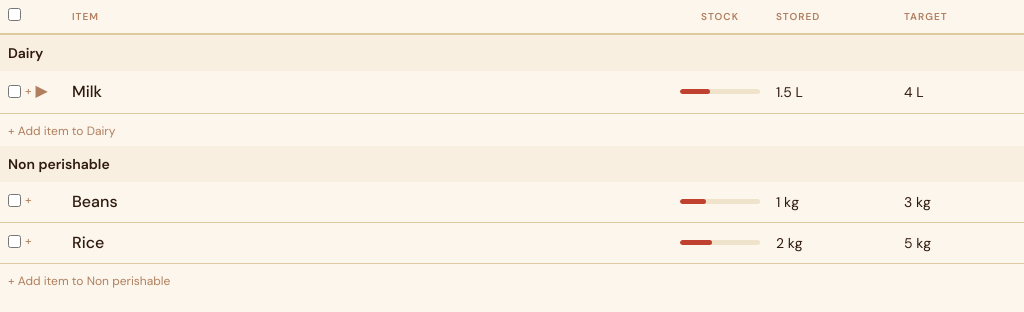
InventoryTable › checkbox select + per-row trash icon › clicking a selected checkbox deselects it and hides the delete button
Check: the text "Rice" is shown, box [72, 232, 104, 252]
Click the checkbox named "Select Rice" at (14, 241), box [8, 234, 21, 248]
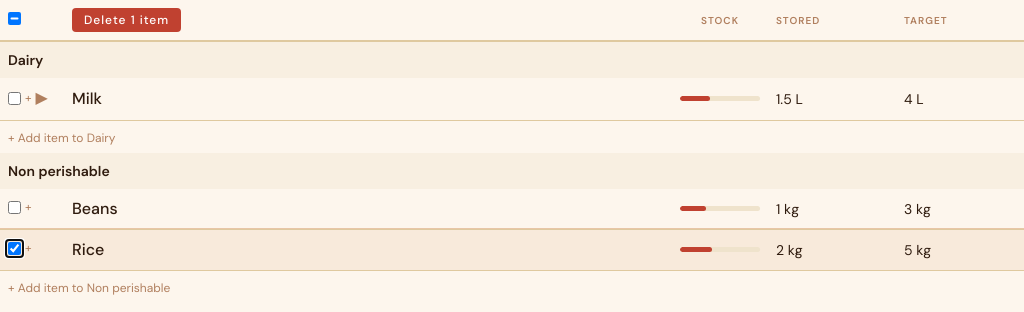
Click the checkbox named "Select Rice" at (14, 248), box [8, 242, 21, 254]
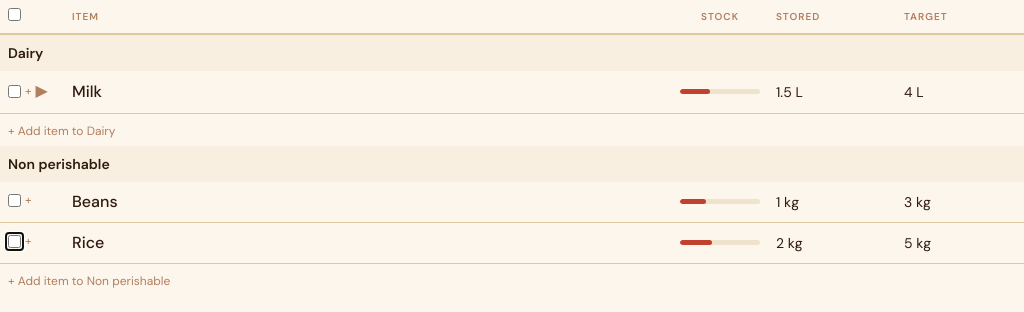
Check: the checkbox named "Select Rice" is not checked, box [8, 234, 21, 248]
Check: the button "Delete 1 item" is gone
